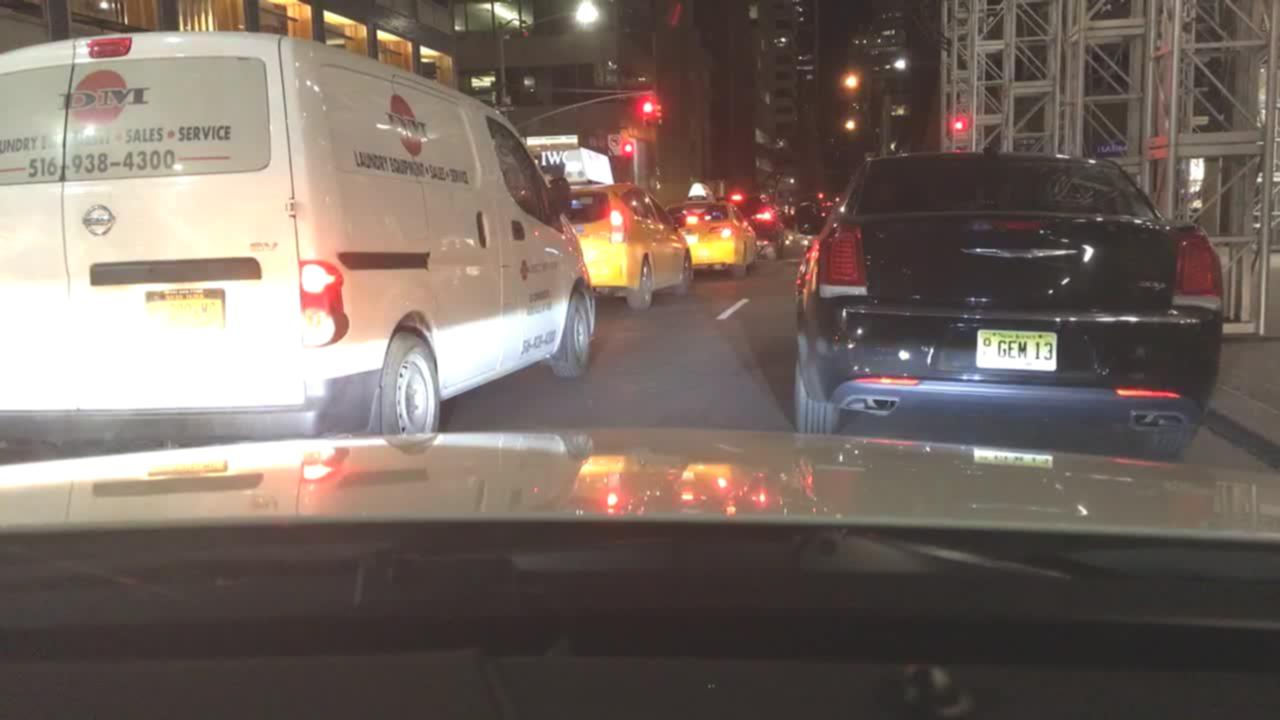Chrysler: (952, 232, 1084, 281)
Nissan: (81, 204, 117, 236)
